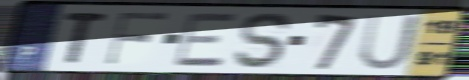7: (314, 11, 358, 71)
E: (172, 12, 239, 68)
F: (103, 11, 172, 67)
S: (231, 11, 295, 70)
T: (61, 10, 110, 66)
U: (356, 12, 423, 72)
